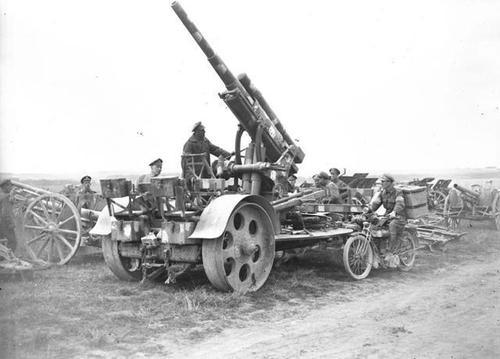MIL_SPG: (90, 2, 353, 292)
